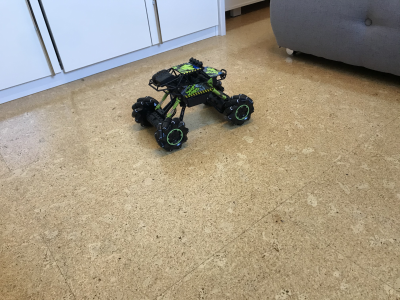remote control car: (126, 55, 254, 153)
